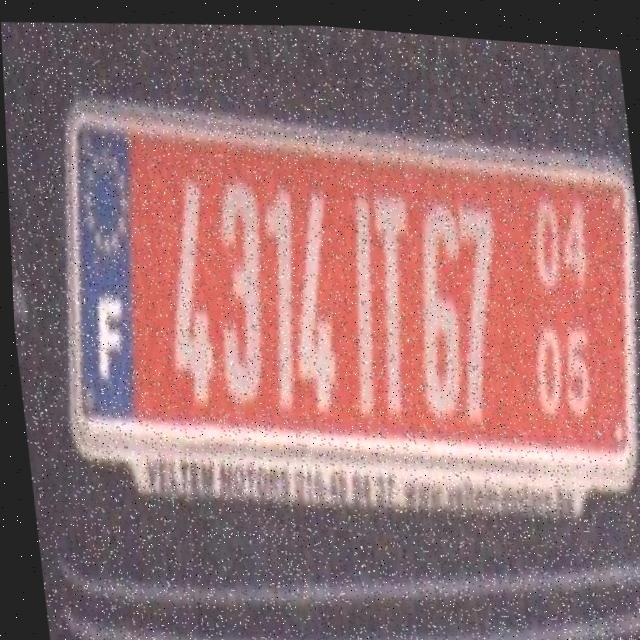LicensePlate: (23, 19, 640, 575)
